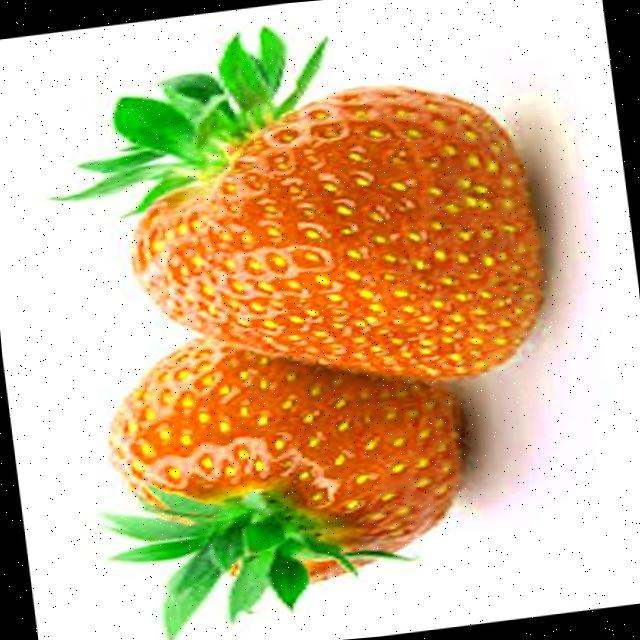strawberry: (62, 27, 540, 379), (105, 338, 463, 638)
